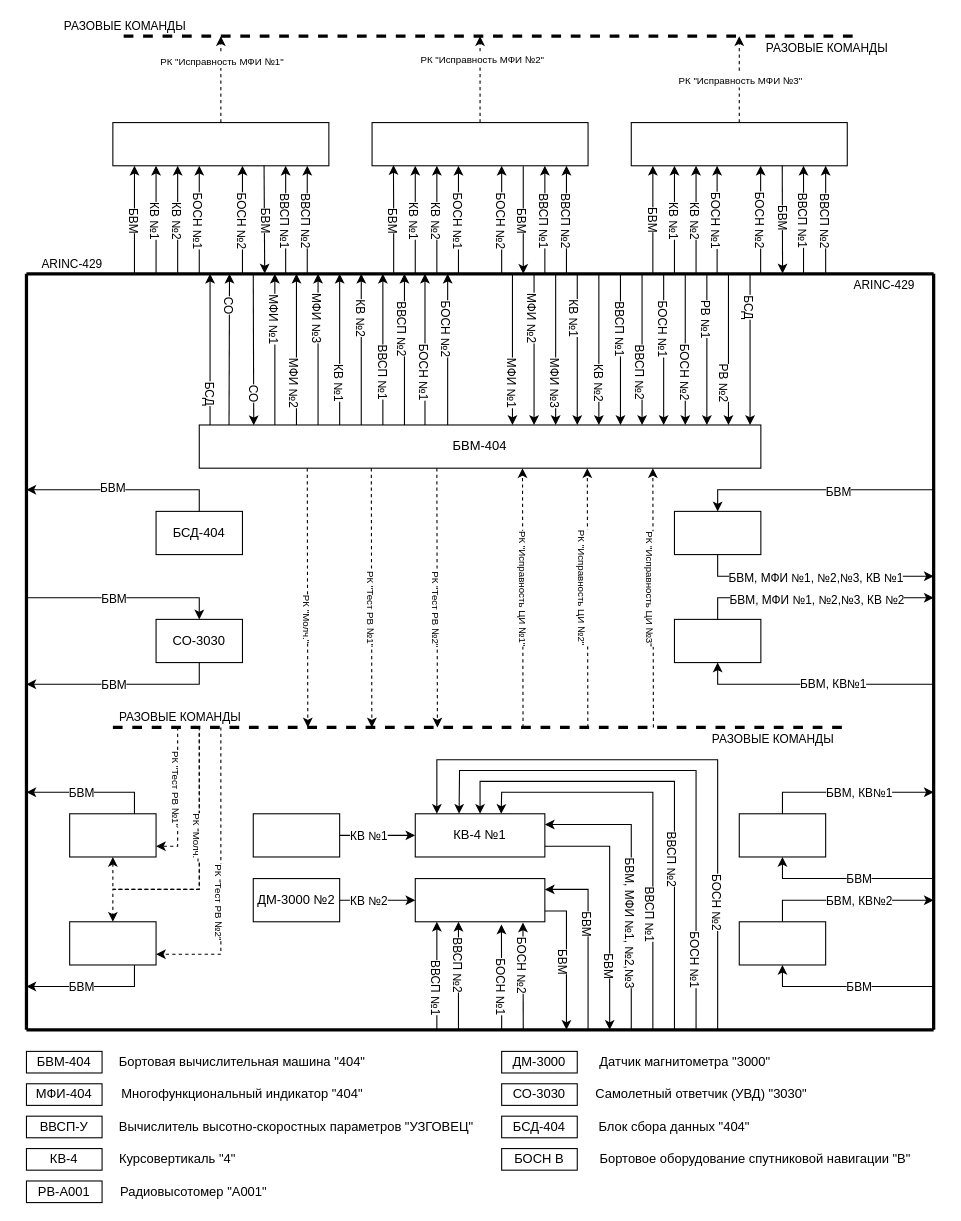
Some shapes in this 961 by 1221 pixel diagram are drawn without their labels. Each missing label, with the centre of its shape:
"БОСН B №1" belongs at (x=717, y=532).
"БОСН B №2" belongs at (x=717, y=640).
"ВВСП-У №1" belongs at (x=782, y=835).
"ВВСП-У №2" belongs at (x=782, y=943).
"ДМ-3000 №1" belongs at (x=296, y=835).
"КВ-4 №2" belongs at (x=479, y=900).
"МФИ-404 №1" belongs at (x=220, y=144).
"МФИ-404 №2" belongs at (x=479, y=144).
"МФИ-404 №3" belongs at (x=738, y=144).
"РВ-А001 №1" belongs at (x=112, y=835).
"РВ-А001 №2" belongs at (x=112, y=943).
